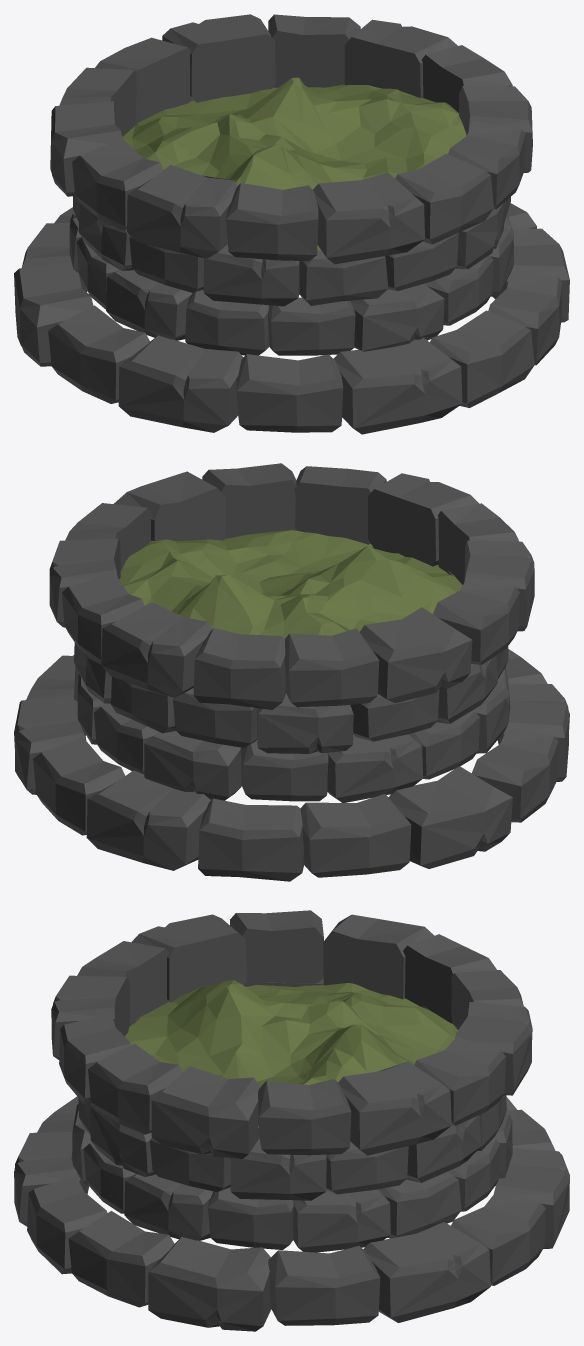
Rendered from WF_LP_HT_Build_Fountain.fbx.
The picture shows the model from 3 angles, top to bottom: view 1: azimuth 30°, elevation 25°; view 2: azimuth 150°, elevation 25°; view 3: azimuth 270°, elevation 25°; orthographic projection.
Visible parts, largest first — view 1: WF_LP_HT_Build_Fountain; view 2: WF_LP_HT_Build_Fountain; view 3: WF_LP_HT_Build_Fountain.
Boxes of the visible parts, bbox=[...] form: WF_LP_HT_Build_Fountain: bbox=[14, 14, 569, 434]; WF_LP_HT_Build_Fountain: bbox=[14, 463, 569, 881]; WF_LP_HT_Build_Fountain: bbox=[14, 910, 569, 1331].
Bounding box in the file's own units: 1.94 × 0.8628 × 1.97.
